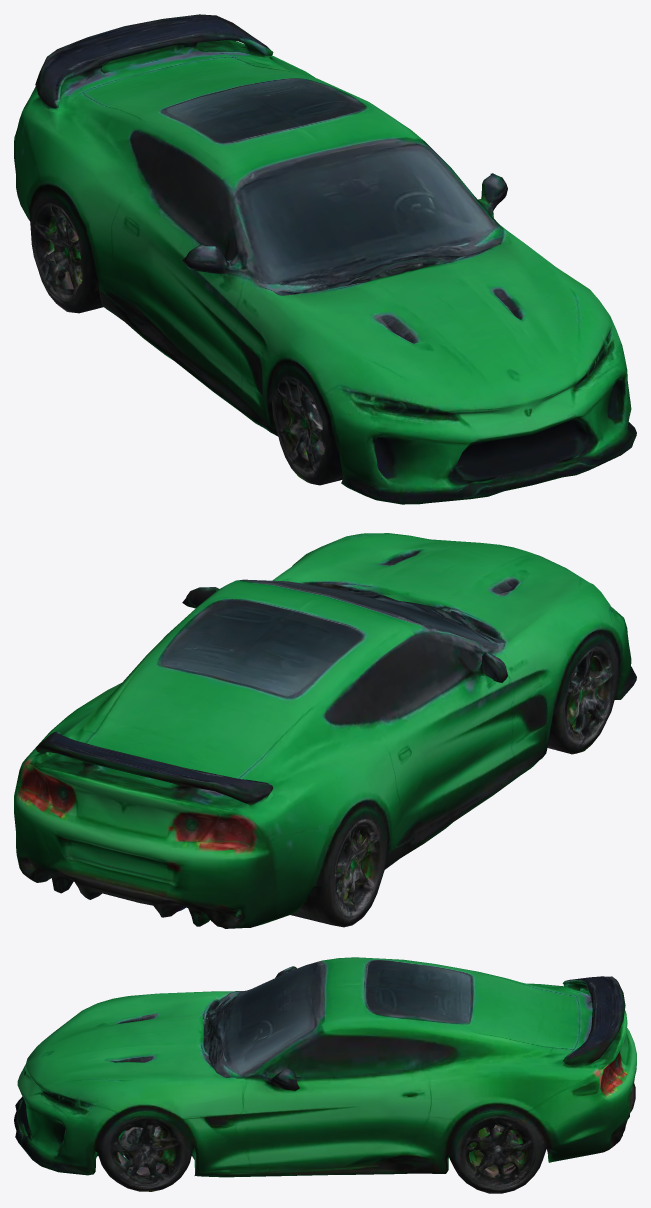
The model's file is dk-meshy-green-sport-lite.glb.
3 views of the same model, one above another, from view 1: azimuth 30°, elevation 25°; view 2: azimuth 150°, elevation 25°; view 3: azimuth 270°, elevation 25° (orthographic). The views are drawn at different scales.
Parts seen in each view (by area): view 1: DrivingKlass_SportsCar_Green; view 2: DrivingKlass_SportsCar_Green; view 3: DrivingKlass_SportsCar_Green.
Part boxes in pixels (x1,y1,x2,y2): DrivingKlass_SportsCar_Green: (14, 14, 636, 504); DrivingKlass_SportsCar_Green: (14, 533, 636, 928); DrivingKlass_SportsCar_Green: (14, 957, 636, 1193).
Size of the model in its own units: 0.8762 by 0.5558 by 1.99.
1 material, 1 textured.
